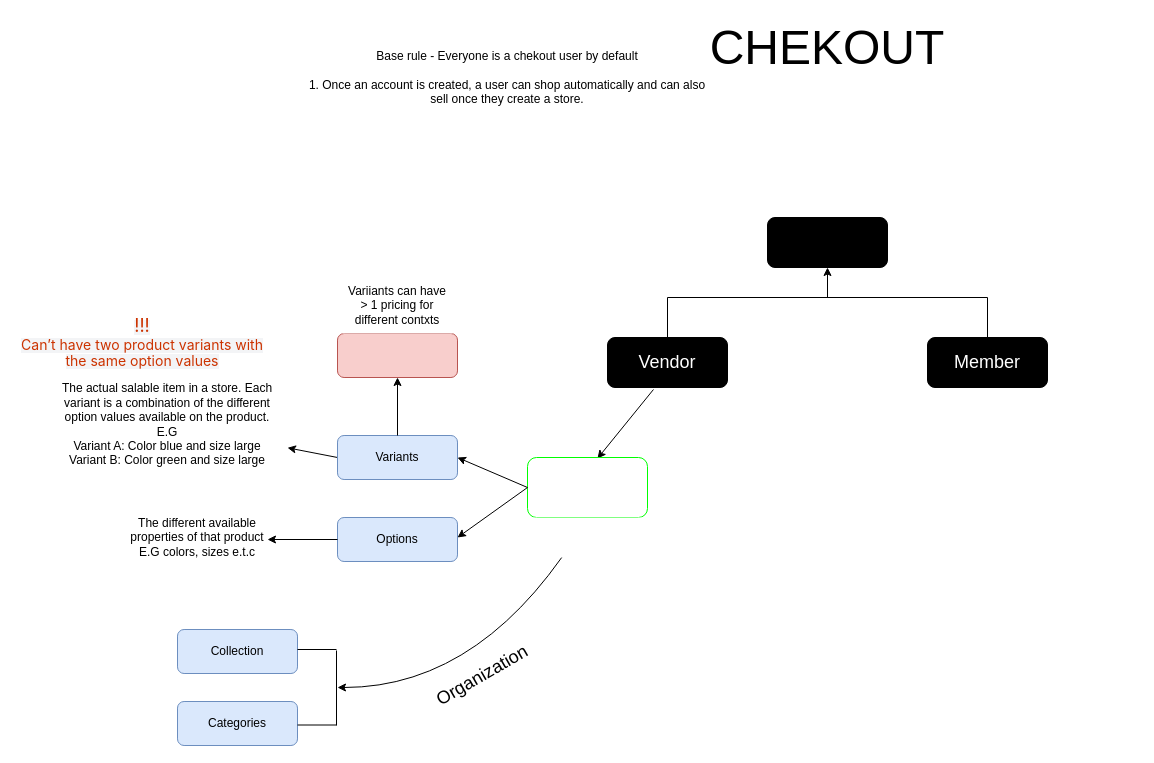
This 1154x763 diagram has some shape labels left out. The shapes that lost their labels are listed below. From the top down, each one's box as (x1, y1, x2, y2) in pixels, then its label:
(766, 216, 888, 268): User
(336, 332, 458, 378): Pricing
(526, 456, 648, 518): Products
(517, 517, 657, 557): Items that vendors sell to members
